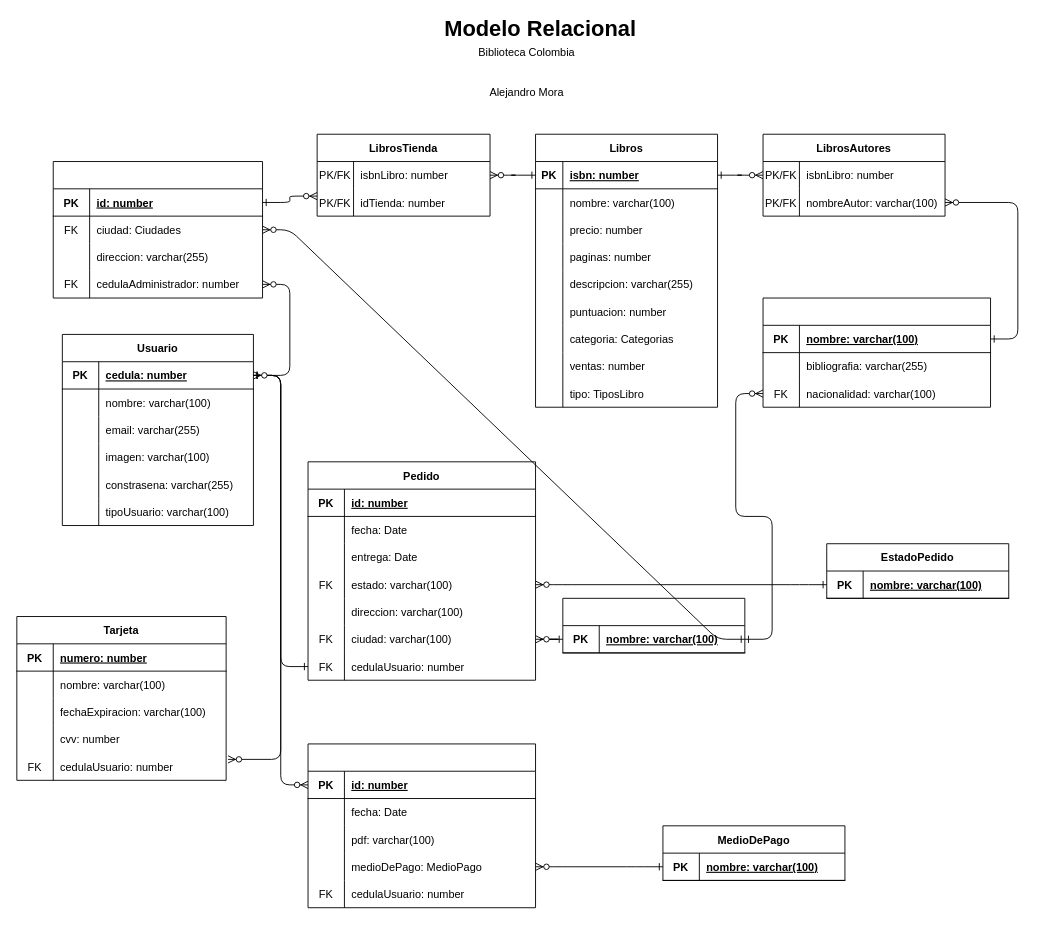
This 1042x925 diagram has some shape labels left out. Each missing label, with the box of its shape:
Autores: (762, 297, 991, 407)
Ciudad: (562, 597, 745, 653)
Factura: (307, 743, 536, 908)
Tienda: (52, 161, 263, 298)
